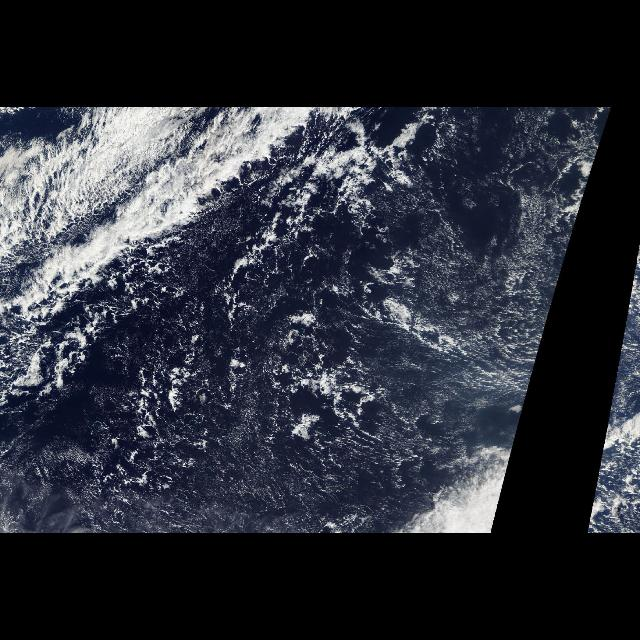Fish: (10, 110, 346, 352)
Gravel: (101, 239, 375, 511)
Sugar: (395, 218, 565, 418)
